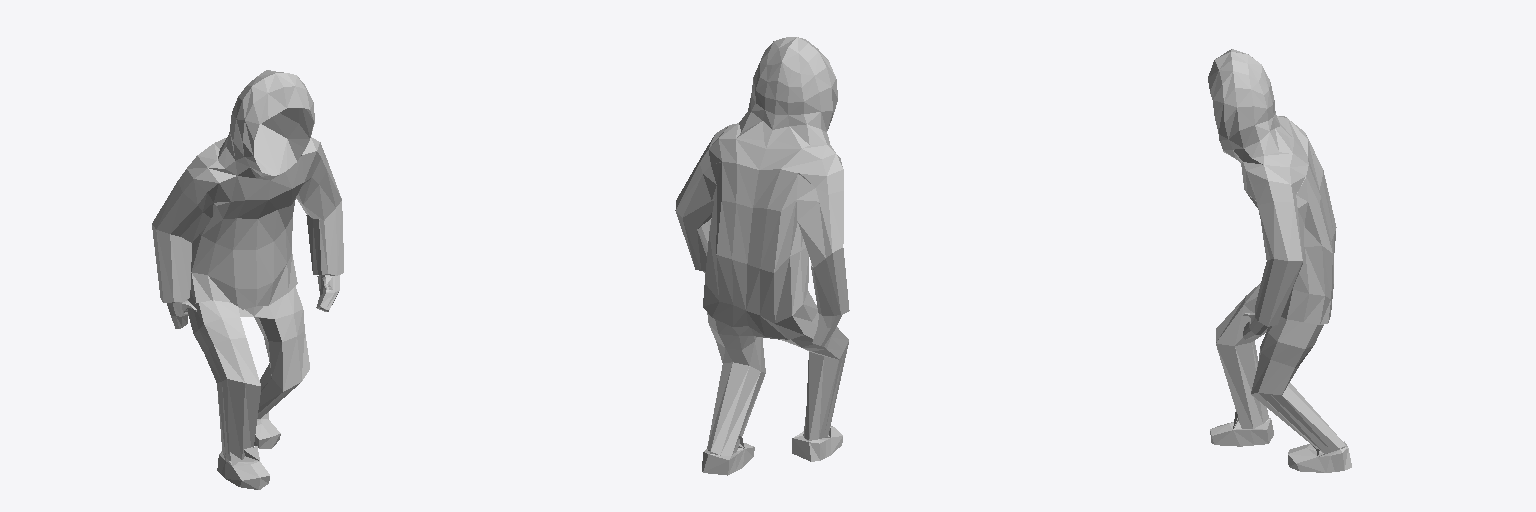
File: Shadowmanv_000027.obj
3 renders of one model, left to right at view 1: azimuth 30°, elevation 25°; view 2: azimuth 150°, elevation 25°; view 3: azimuth 270°, elevation 25°, orthographic.
Visible parts, largest first — view 1: Cube.000; view 2: Cube.000; view 3: Cube.000.
Boxes of the visible parts, <box> form: Cube.000: <box>152,70,343,489</box>; Cube.000: <box>675,37,849,475</box>; Cube.000: <box>1208,49,1351,472</box>.
Size of the model in its own units: 4.9 by 10.79 by 3.5.